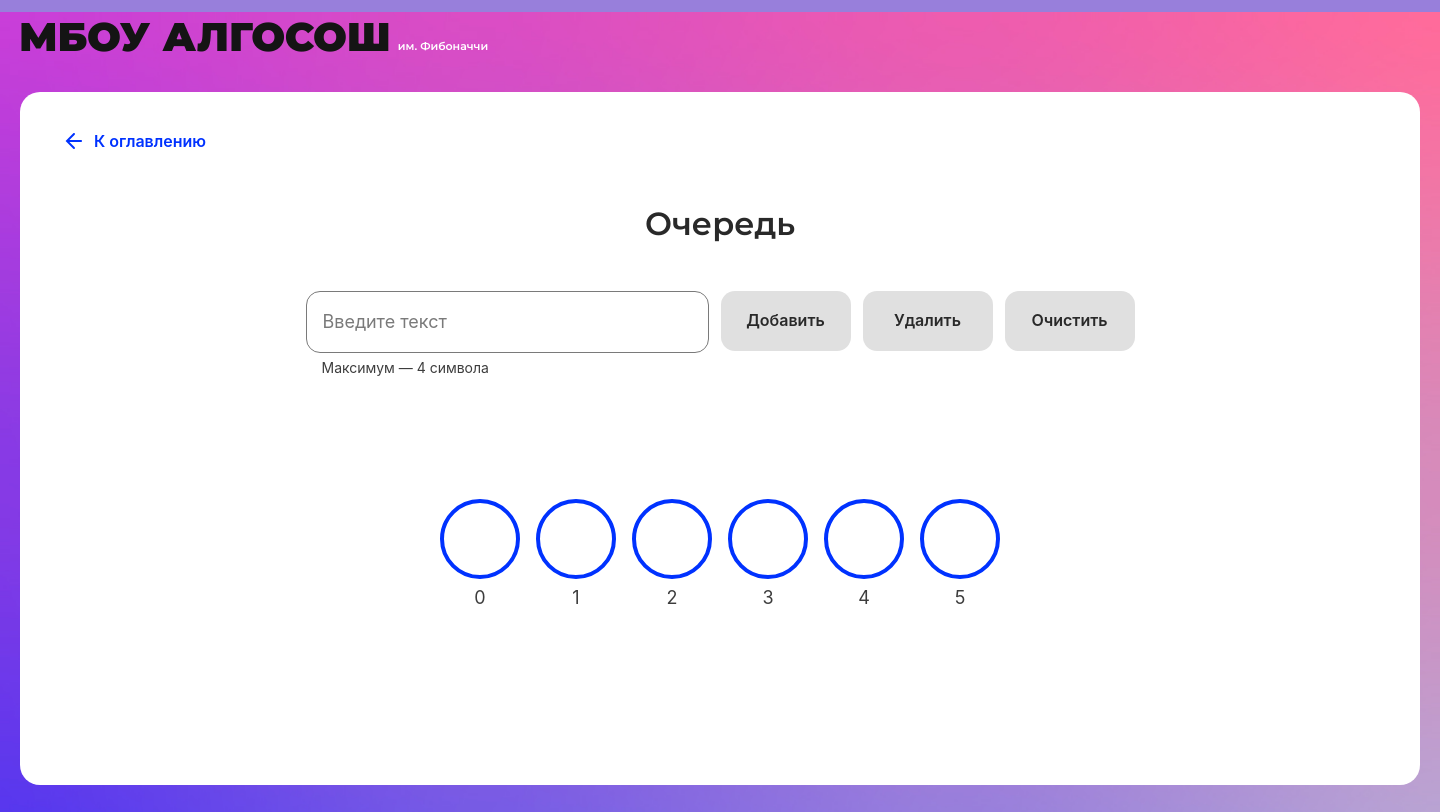
Test: Queue page test › Input value length cant be longer then 4
Type "12345" into the field with placeholder "Введите текст" at (508, 322), box [306,291,709,353]
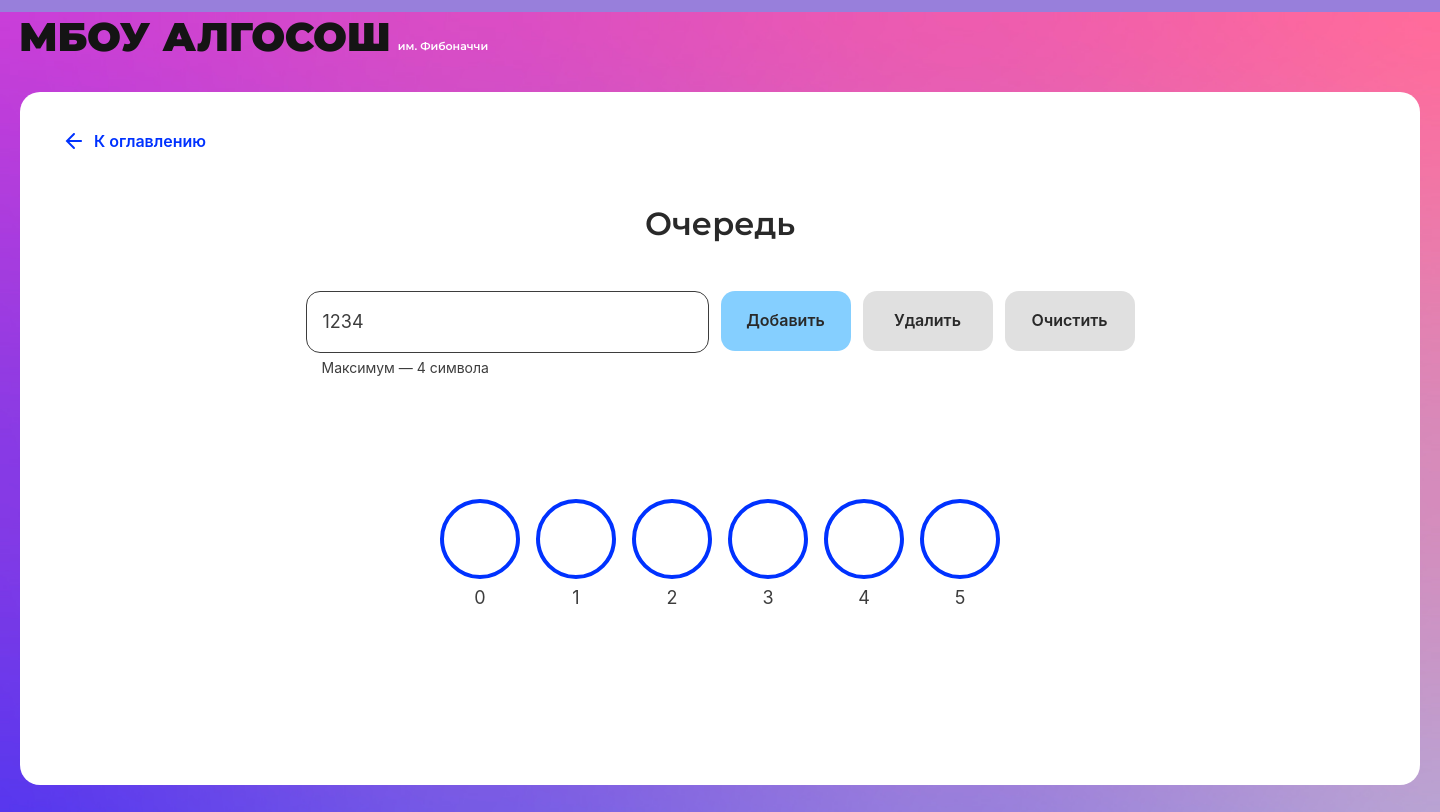
Check: the button is enabled
Check: the field holds "1234", box [306,291,709,353]
